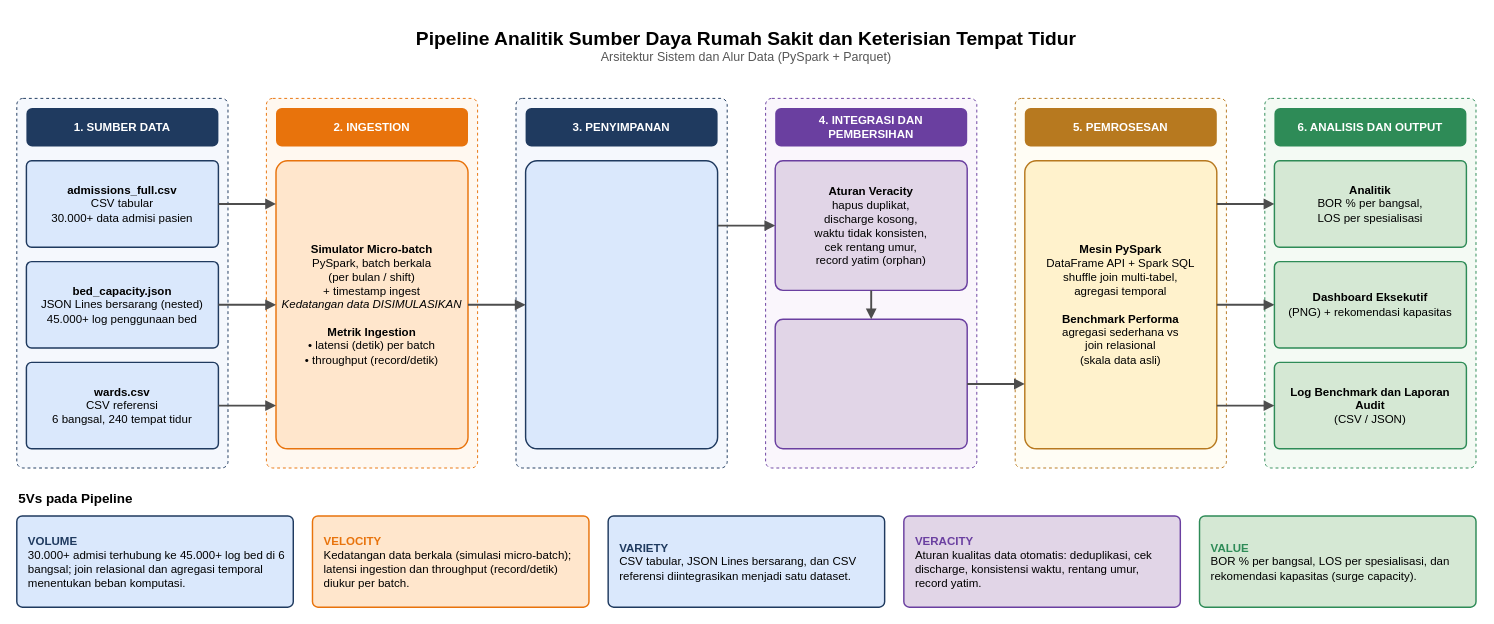
The diagram is 1494 pixels wide and 624 high, and some of its shapes have lost their labels. Here are the shapes that lost their labels. From the top down, the centre of each, then its label:
At pixel 621 304: "Parquet Data Lake data/lake/ format kolumnar, terkompresi, skema terjaga".
At pixel 870 383: "Normalisasi Skema flatten JSON + join CSV (dataset terintegrasi)".
